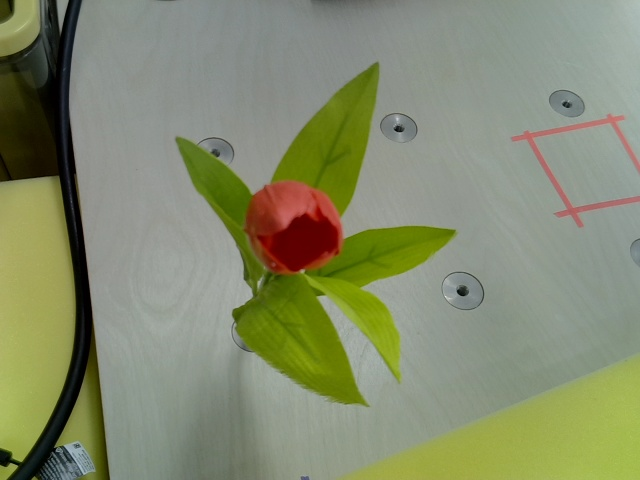튤립: (243, 182, 343, 276)
